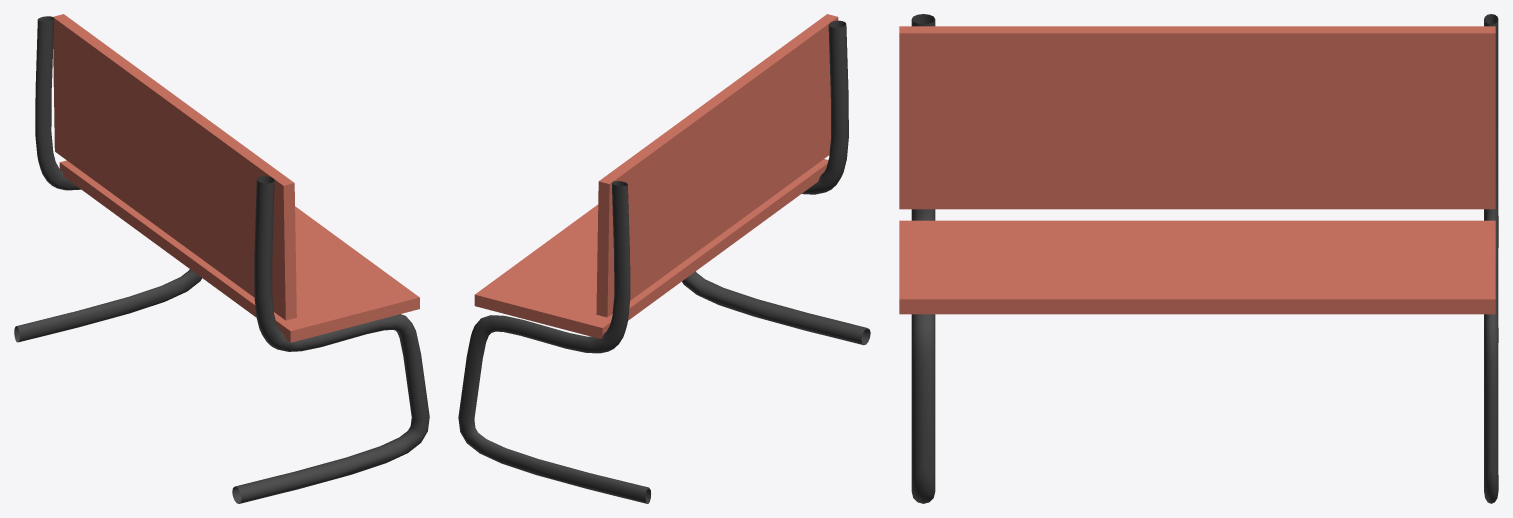
The model's file is bench.fbx.
3 renders of one model, left to right at view 1: azimuth 30°, elevation 25°; view 2: azimuth 150°, elevation 25°; view 3: azimuth 270°, elevation 25°, orthographic. The views are drawn at different scales.
Parts seen in each view (by area): view 1: bench.002; view 2: bench.002; view 3: bench.002.
Part boxes in pixels (x1=…): bench.002: x1=14, y1=14, x2=429, y2=503; bench.002: x1=458, y1=14, x2=870, y2=503; bench.002: x1=899, y1=14, x2=1498, y2=503.
Size of the model in its own units: 148 by 234 by 311.
